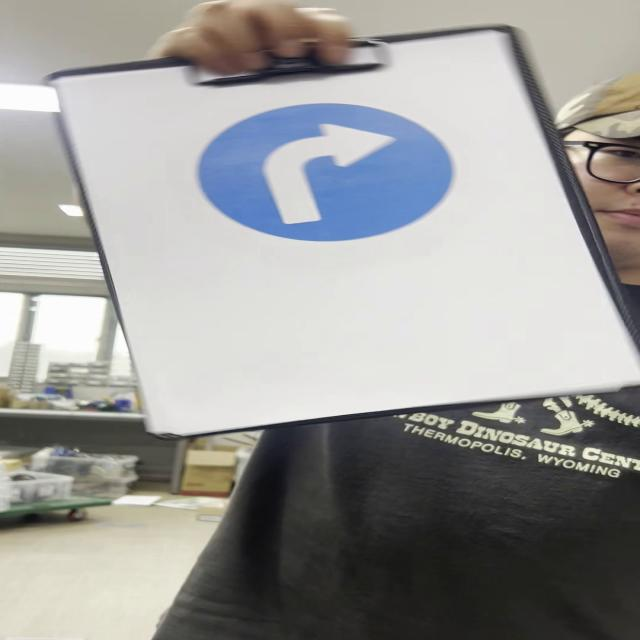right: (203, 106, 458, 242)
